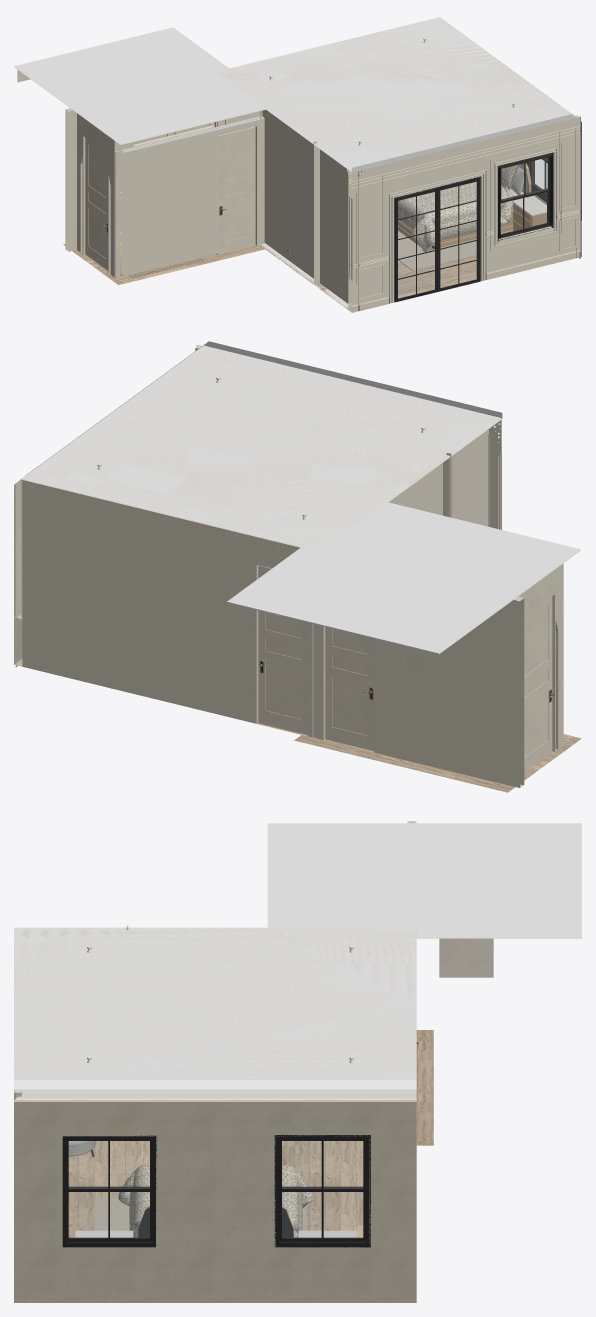
The model's file is primary-bedroom-ff225cad955f.glb.
3 renders of one model, top to bottom at view 1: azimuth 30°, elevation 25°; view 2: azimuth 150°, elevation 25°; view 3: azimuth 270°, elevation 25°, orthographic. The views are drawn at different scales.
Parts seen in each view (by area): view 1: primary-bedroom-9d91b47435c6fb33, primary-bedroom-look-9d91b47435c6fb33, primary-bedroom-b0ade14315e4f1c3, primary-bedroom-look-9ecc0d558be1c706, primary-bedroom-e8793759323e04f0, primary-bedroom-0987656e6ddb83c1, primary-bedroom-fc6585fecfaf7ec3, primary-bedroom-look-18f70a4a9eda5dac, primary-bedroom-c791a0f218fead78, primary-bedroom-e1735639a83d20d7, primary-bedroom-b29583548b72a1ea, primary-bedroom-look-6c54e09c161b5848 (+18 smaller); view 2: primary-bedroom-9d91b47435c6fb33, primary-bedroom-21ac2ed1b4475155, primary-bedroom-look-9d91b47435c6fb33, primary-bedroom-e8793759323e04f0, primary-bedroom-look-21ac2ed1b4475155, primary-bedroom-b7a870a0f6b43c8c, primary-bedroom-look-6d601da8073fdc0e, primary-bedroom-look-6c54e09c161b5848, primary-bedroom-c791a0f218fead78, primary-bedroom-look-e48b5483df8cacdb, primary-bedroom-look-2575515a05775d9e, primary-bedroom-fc6585fecfaf7ec3 (+5 smaller); view 3: primary-bedroom-9d91b47435c6fb33, primary-bedroom-adb6f49a6d2cbec3, primary-bedroom-look-9d91b47435c6fb33, primary-bedroom-e8793759323e04f0, primary-bedroom-16d9002bc6318568, primary-bedroom-2575515a05775d9e, primary-bedroom-91f952a1d198b4a4, primary-bedroom-f5a37a5545b9d676, primary-bedroom-791abe15be22adf2, primary-bedroom-b29583548b72a1ea, primary-bedroom-look-95b94d4b81cfb474, primary-bedroom-look-2575515a05775d9e (+2 smaller).
Boxes of the visible parts, <box> form: primary-bedroom-9d91b47435c6fb33: <box>215,17,575,172</box>; primary-bedroom-look-9d91b47435c6fb33: <box>14,27,265,144</box>; primary-bedroom-b0ade14315e4f1c3: <box>348,116,580,310</box>; primary-bedroom-look-9ecc0d558be1c706: <box>121,117,259,276</box>; primary-bedroom-e8793759323e04f0: <box>218,15,575,171</box>; primary-bedroom-0987656e6ddb83c1: <box>394,176,480,302</box>; primary-bedroom-fc6585fecfaf7ec3: <box>259,109,319,284</box>; primary-bedroom-look-18f70a4a9eda5dac: <box>218,126,255,253</box>; primary-bedroom-c791a0f218fead78: <box>314,144,358,312</box>; primary-bedroom-e1735639a83d20d7: <box>498,152,553,241</box>; primary-bedroom-b29583548b72a1ea: <box>398,181,513,250</box>; primary-bedroom-look-6c54e09c161b5848: <box>82,135,110,272</box>; primary-bedroom-9d91b47435c6fb33: <box>21,345,502,551</box>; primary-bedroom-21ac2ed1b4475155: <box>22,480,320,739</box>; primary-bedroom-look-9d91b47435c6fb33: <box>227,502,580,654</box>; primary-bedroom-e8793759323e04f0: <box>22,341,502,544</box>; primary-bedroom-look-21ac2ed1b4475155: <box>320,596,524,787</box>; primary-bedroom-b7a870a0f6b43c8c: <box>258,565,307,734</box>; primary-bedroom-look-6d601da8073fdc0e: <box>325,627,374,750</box>; primary-bedroom-look-6c54e09c161b5848: <box>524,592,555,771</box>; primary-bedroom-c791a0f218fead78: <box>443,426,491,526</box>; primary-bedroom-look-e48b5483df8cacdb: <box>518,563,563,749</box>; primary-bedroom-look-2575515a05775d9e: <box>294,734,581,792</box>; primary-bedroom-fc6585fecfaf7ec3: <box>389,459,446,515</box>; primary-bedroom-9d91b47435c6fb33: <box>14,927,416,1089</box>; primary-bedroom-adb6f49a6d2cbec3: <box>14,1100,416,1247</box>; primary-bedroom-look-9d91b47435c6fb33: <box>267,823,581,938</box>; primary-bedroom-e8793759323e04f0: <box>14,927,416,1088</box>; primary-bedroom-16d9002bc6318568: <box>15,1248,416,1300</box>; primary-bedroom-2575515a05775d9e: <box>14,1141,416,1302</box>; primary-bedroom-91f952a1d198b4a4: <box>274,1135,370,1247</box>; primary-bedroom-f5a37a5545b9d676: <box>62,1135,157,1247</box>; primary-bedroom-791abe15be22adf2: <box>14,1089,416,1098</box>; primary-bedroom-b29583548b72a1ea: <box>118,1165,313,1237</box>; primary-bedroom-look-95b94d4b81cfb474: <box>439,938,493,977</box>; primary-bedroom-look-2575515a05775d9e: <box>416,1030,433,1145</box>.
Bounding box in the file's own units: 8.2 × 3.04 × 7.21.
39 materials, 7 textured.
